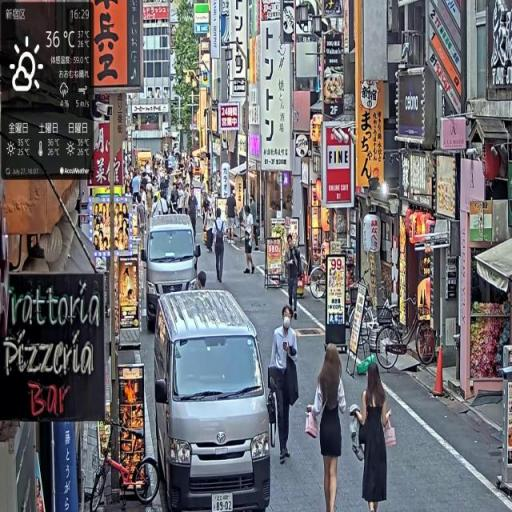person: (309, 340, 347, 512), (352, 363, 392, 512), (269, 306, 302, 465), (283, 234, 303, 321), (211, 209, 228, 285), (242, 205, 257, 278), (137, 193, 148, 256), (226, 191, 238, 246), (189, 190, 199, 244), (197, 267, 209, 293)
